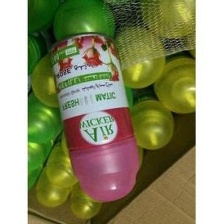aerosol_cans: (40, 31, 143, 206)
